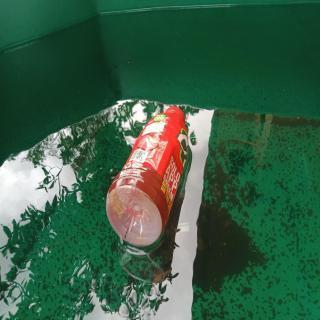bottle: (104, 104, 191, 249)
